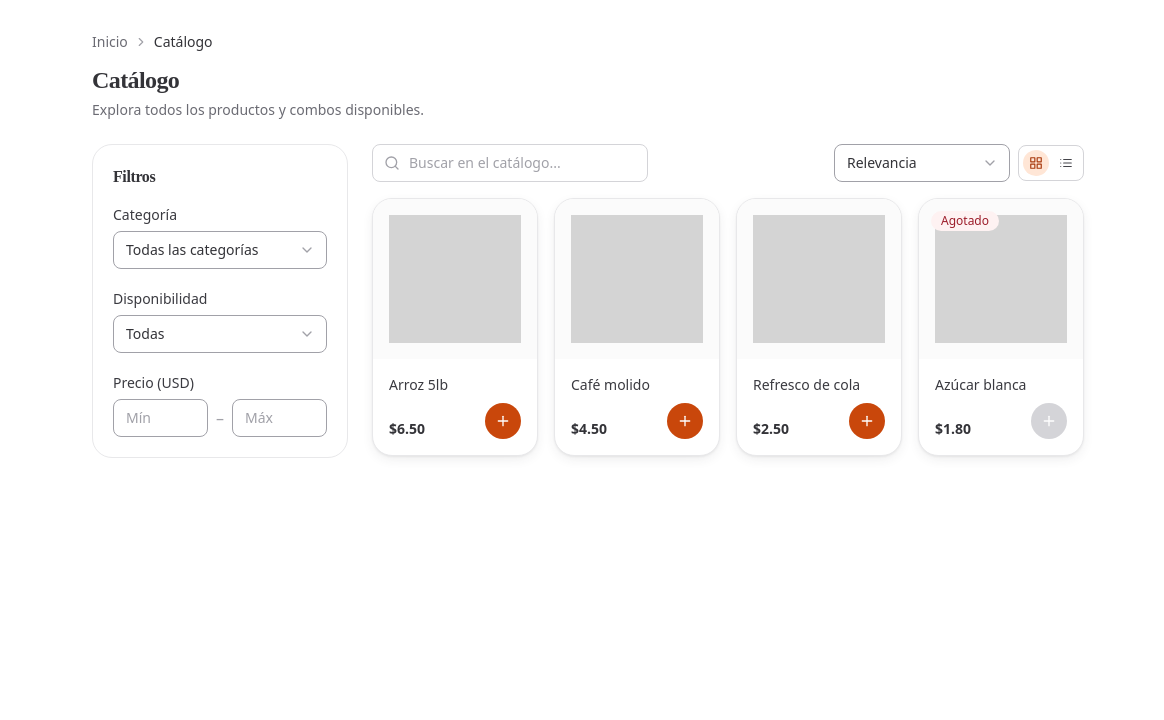
Test case: CatalogPage › filtra por texto de búsqueda y sincroniza el parámetro en la URL
This screenshot has width=1164, height=720.
Expected: the link "Arroz 5lb $6.50" is shown, [372,198,538,456]
In the search field labelled "Buscar en el catálogo...": (510, 163) [372,144,648,182], type "arroz"
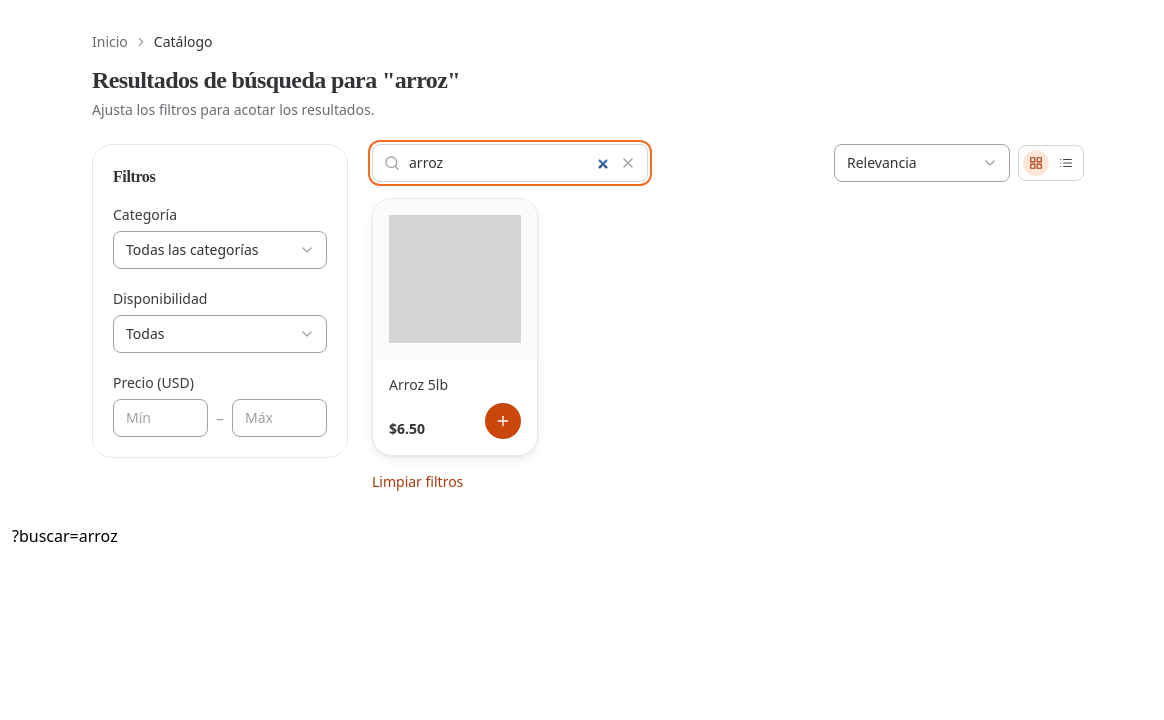
Expected: the link "Arroz 5lb $6.50" is shown, [372,198,538,456]
Expected: the link "Café molido" is gone
Expected: the text with test id "location-search" shows "buscar=arroz", [12,525,118,547]
